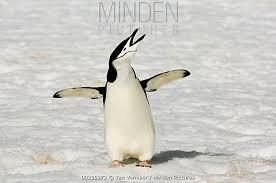chinstrap: (50, 26, 195, 178)
